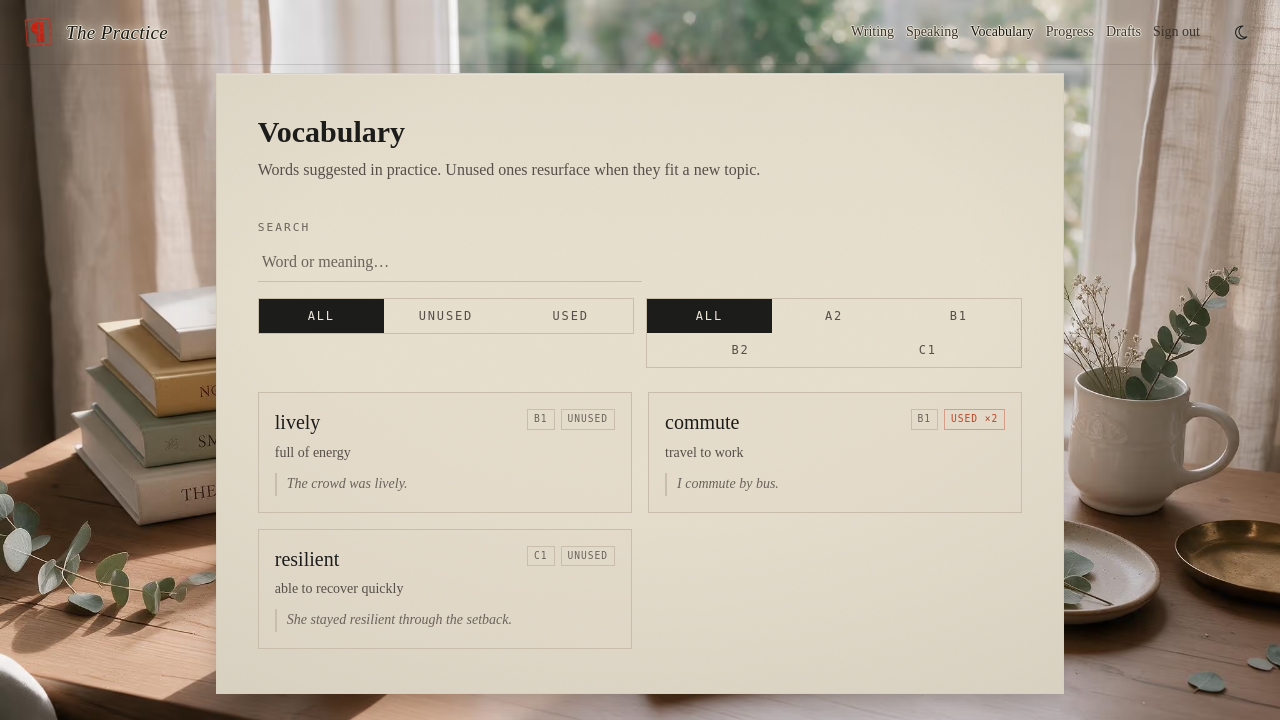
Test: VocabPage › says so when search and filters together match nothing
The image size is (1280, 720).
Expected: the heading "lively" is shown, [275,409,320,437]
Type "zzz" into the search field labelled "Search".
click(450, 262); type("zzz")  # box [258,242,642,282]
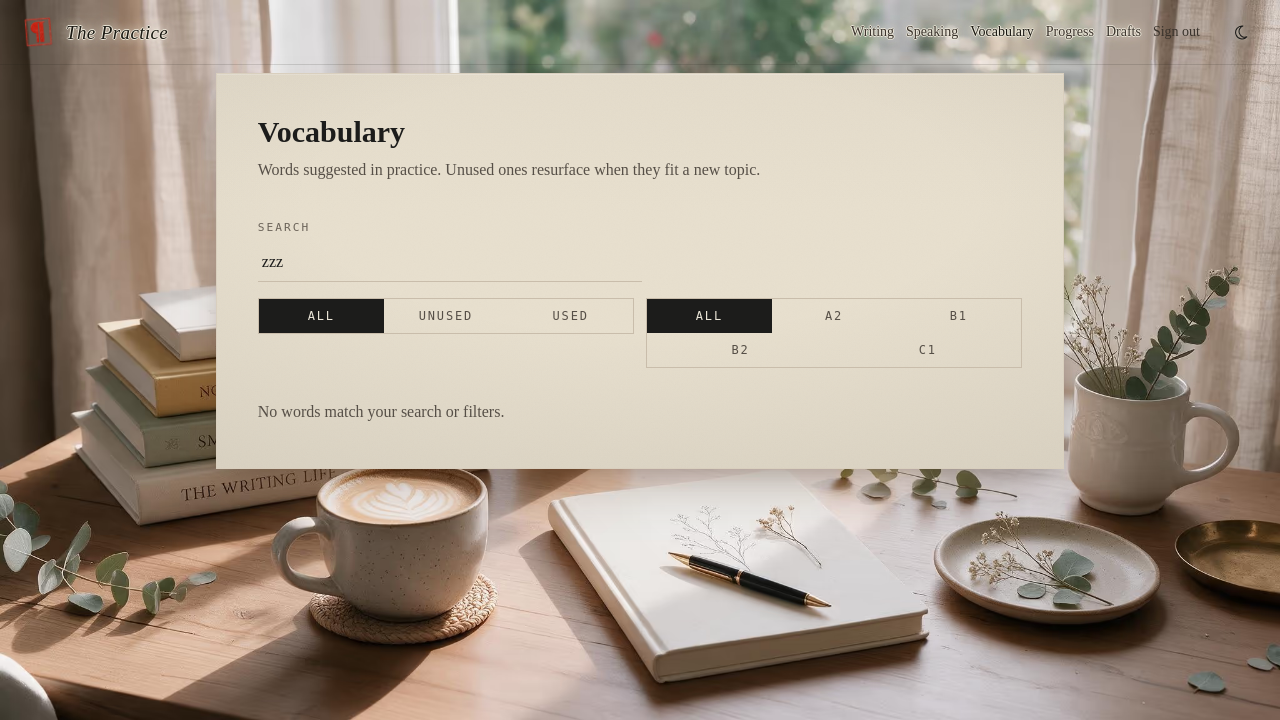
Result: the text "No words match your search or filters." is shown at [258,403,504,420]
